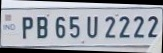character: (21, 16, 33, 39), (68, 15, 80, 38), (118, 15, 130, 38), (133, 15, 145, 38), (86, 14, 97, 39), (36, 15, 47, 39), (54, 16, 65, 39), (104, 15, 115, 38), (147, 15, 158, 37)
